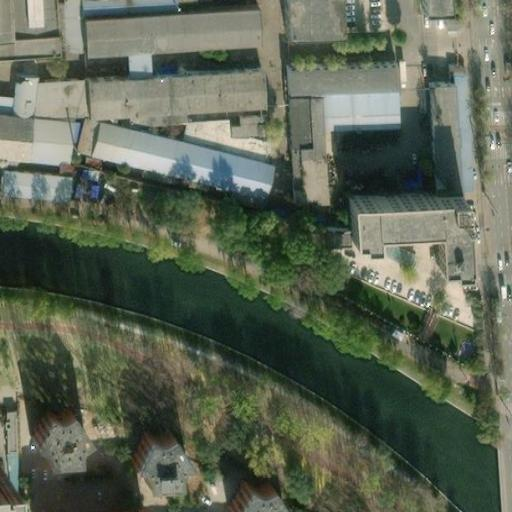building: (82, 117, 267, 198), (79, 61, 259, 115), (341, 190, 462, 270), (75, 3, 250, 53), (420, 72, 463, 189), (279, 51, 392, 93), (281, 90, 322, 197), (314, 84, 394, 129), (124, 430, 183, 483), (21, 411, 80, 464), (282, 0, 340, 44), (19, 111, 67, 159), (222, 481, 281, 512), (0, 164, 60, 193), (0, 72, 28, 114), (224, 102, 261, 132), (117, 48, 145, 71)
